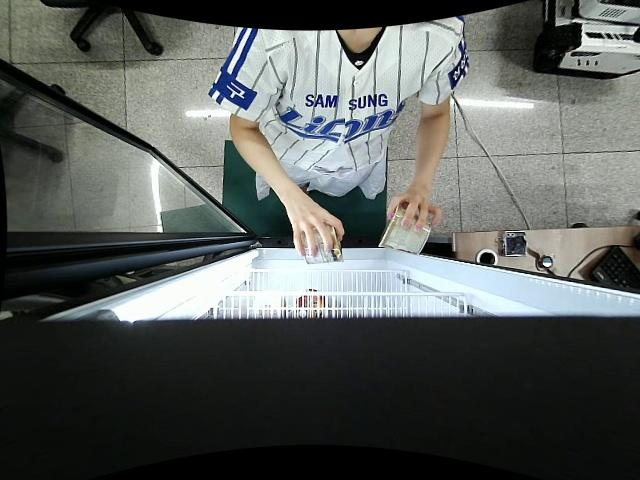00_hand: (285, 194, 346, 257), (387, 193, 443, 234)
04_chapagetti_S: (377, 201, 434, 255), (301, 221, 345, 265)
